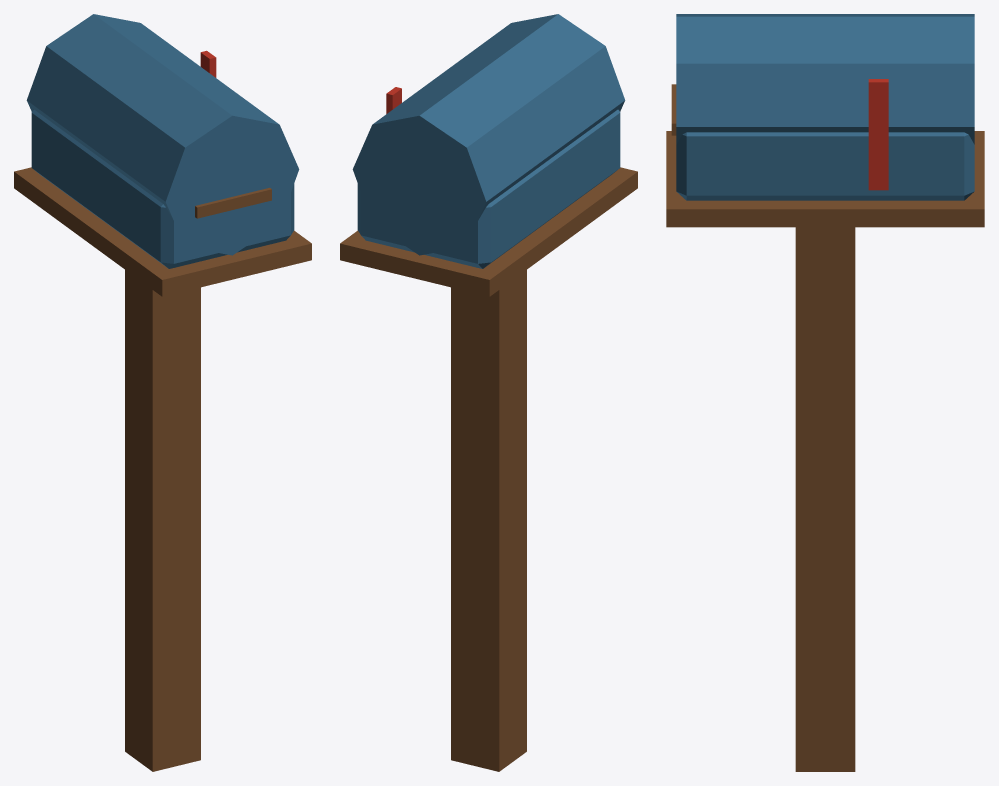
The model's file is Prop_Par_PlotMailbox_LOD1.glb.
3 views of the same model, side by side, from view 1: azimuth 30°, elevation 25°; view 2: azimuth 150°, elevation 25°; view 3: azimuth 270°, elevation 25° (orthographic). The views are drawn at different scales.
Parts seen in each view (by area): view 1: Prop_Par_PlotMailbox; view 2: Prop_Par_PlotMailbox; view 3: Prop_Par_PlotMailbox.
Boxes of the visible parts, left/top/right/bottom form: Prop_Par_PlotMailbox: left=14, top=14, right=311, bottom=771; Prop_Par_PlotMailbox: left=340, top=14, right=637, bottom=771; Prop_Par_PlotMailbox: left=666, top=14, right=984, bottom=771.
Size of the model in its own units: 0.28 by 1.24 by 0.48.
